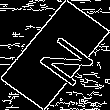N_NW: (20, 24, 90, 86)
